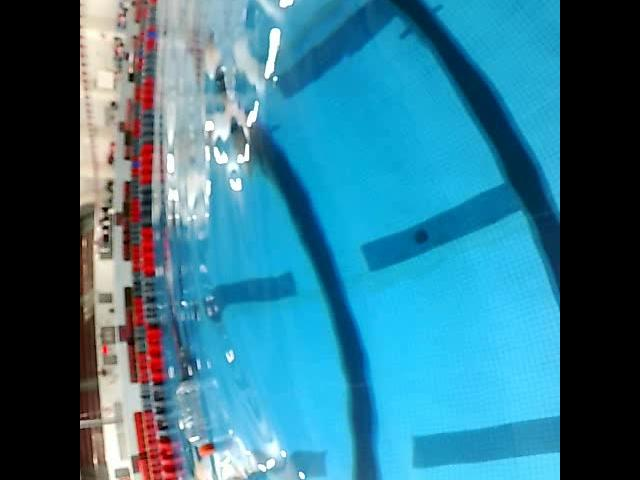Bottle: (172, 372, 222, 467)
